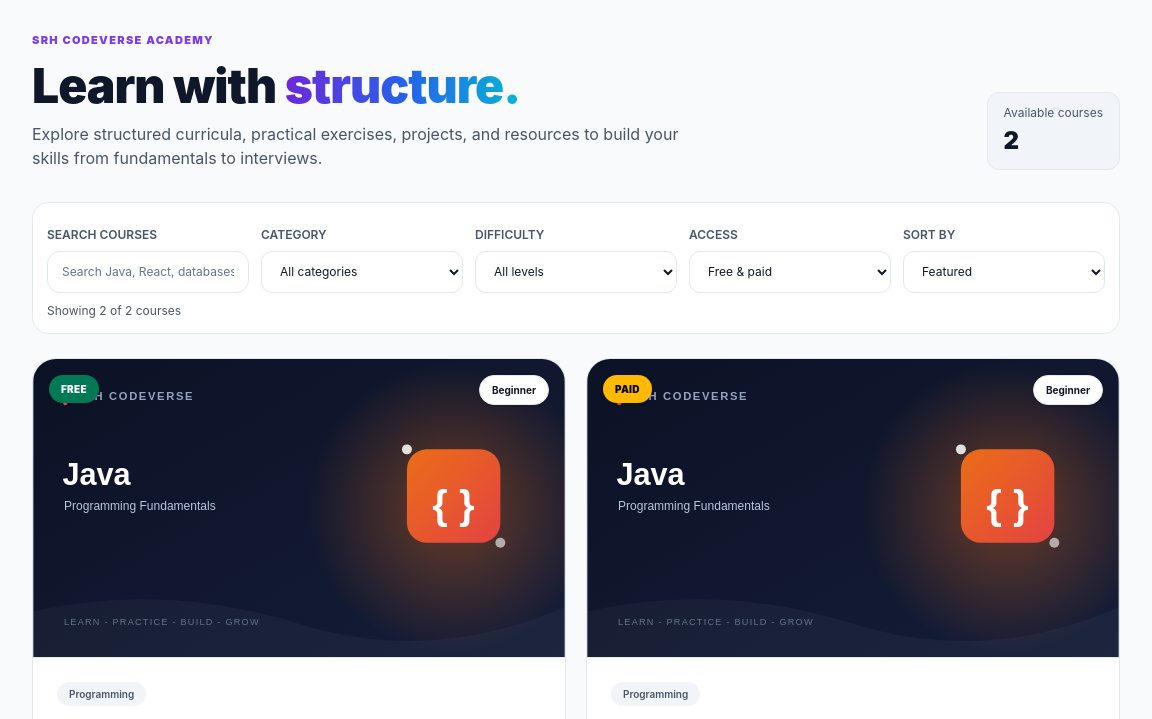
course marketplace listing › shows FREE/PAID badges, prices, instructor and filters by access
This screenshot has width=1152, height=719.
Select "PAID" in the dropdown with id "course-access": (790, 272) [689,251,891,293]
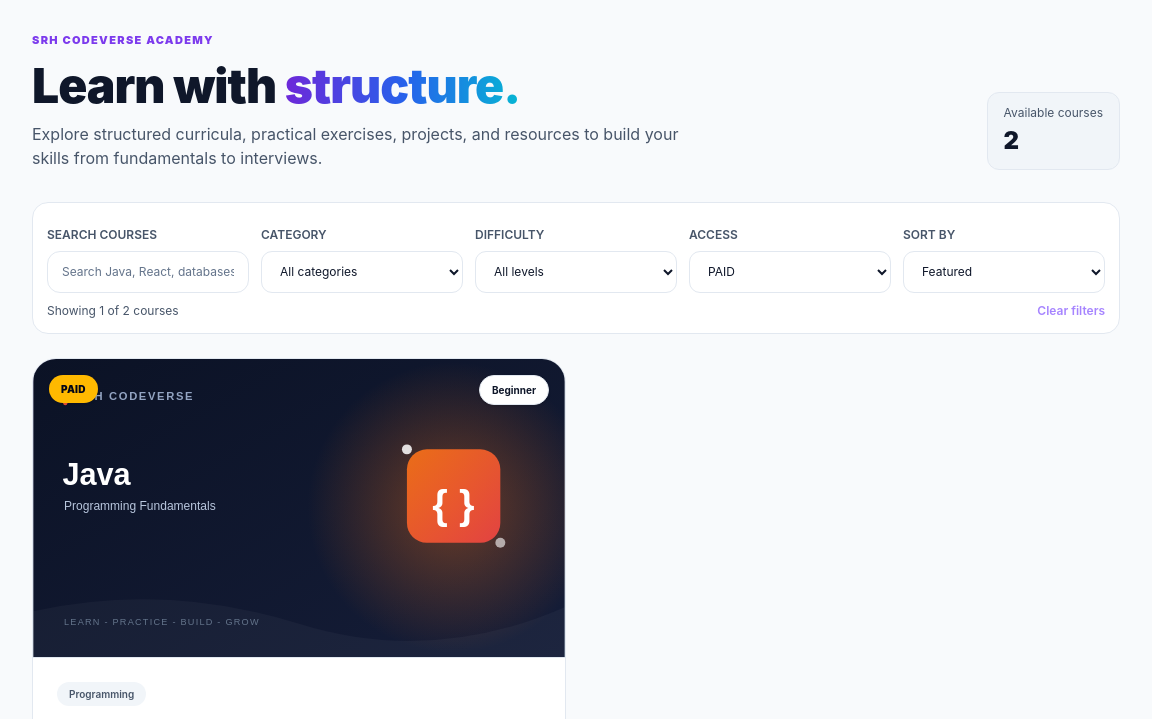
Expected: no links to "/courses/java-foundations" are shown
